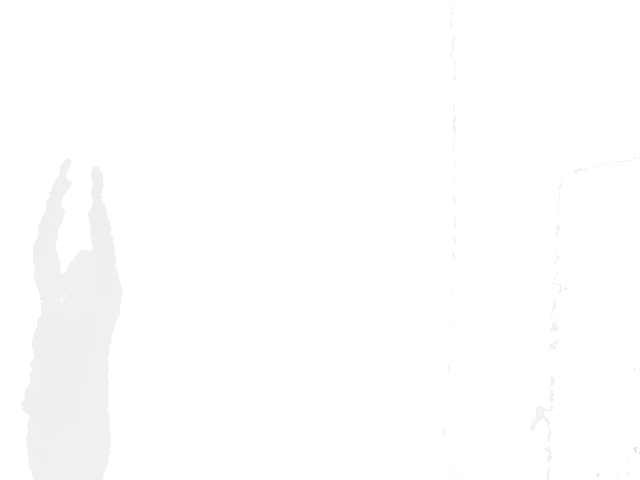hand: (50, 158, 72, 200), (89, 165, 104, 201)
head: (64, 248, 101, 296)
person: (19, 157, 126, 479)
